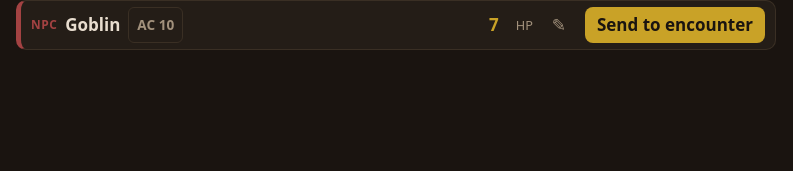
Test: CatalogRow sending › reveals the send form from the send button
Click the button "Send to encounter" at (675, 25), box [585,7,765,43]
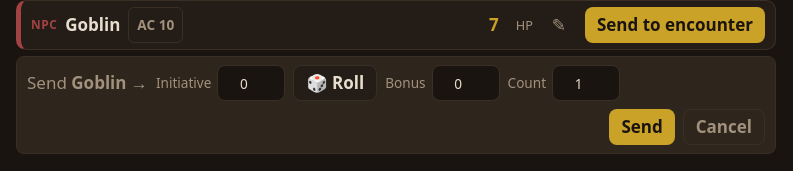
Expected: the number field labelled "Initiative" is shown, [217,65,285,101]
